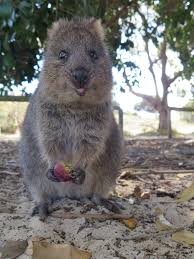quokka: (9, 13, 140, 229)
